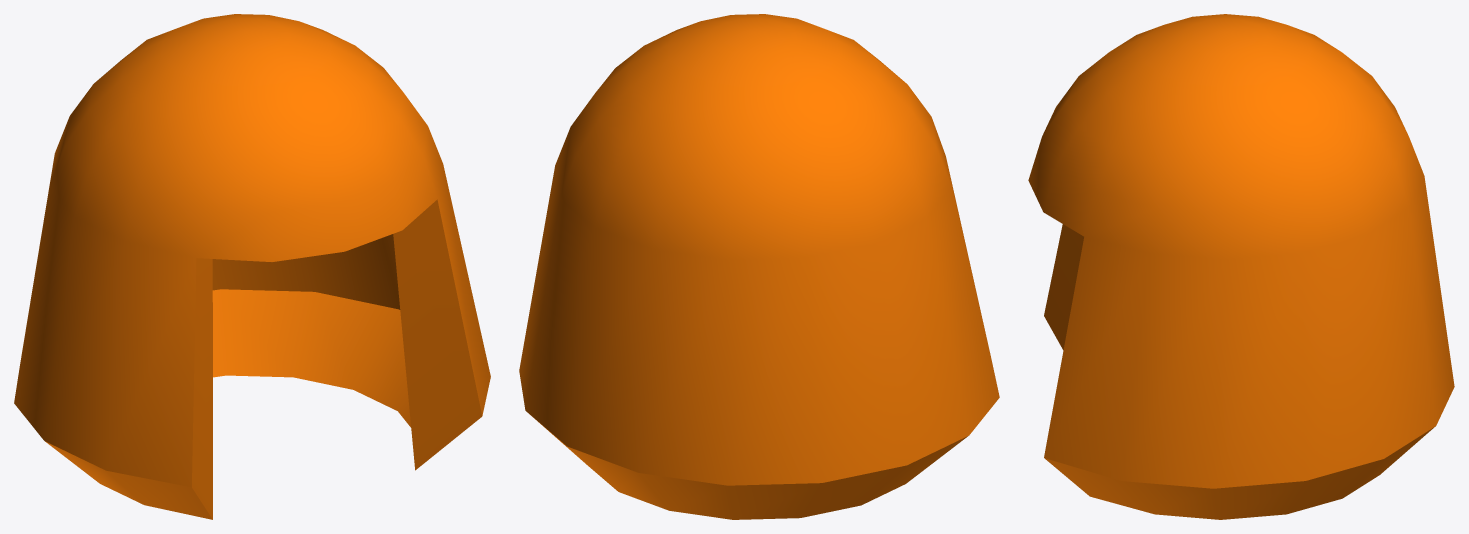
Rendered from Hair_04_C02.fbx.
3 renders of one model, left to right at view 1: azimuth 30°, elevation 25°; view 2: azimuth 150°, elevation 25°; view 3: azimuth 270°, elevation 25°, orthographic.
Visible parts, largest first — view 1: Hair_04_C02; view 2: Hair_04_C02; view 3: Hair_04_C02.
Boxes of the visible parts, x1,y1,x2,y2 form: Hair_04_C02: (14,14,490,519); Hair_04_C02: (519,14,999,519); Hair_04_C02: (1028,14,1454,519).
Size of the model in its own units: 137 by 130 by 121.
